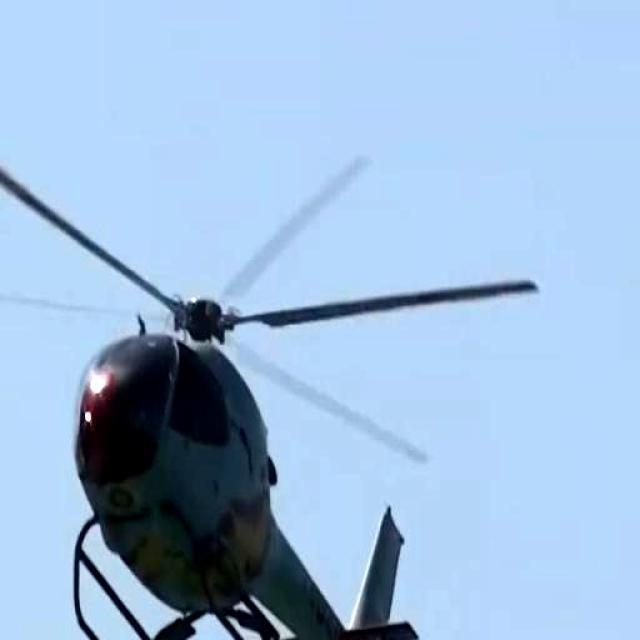drone: (0, 116, 538, 640)
